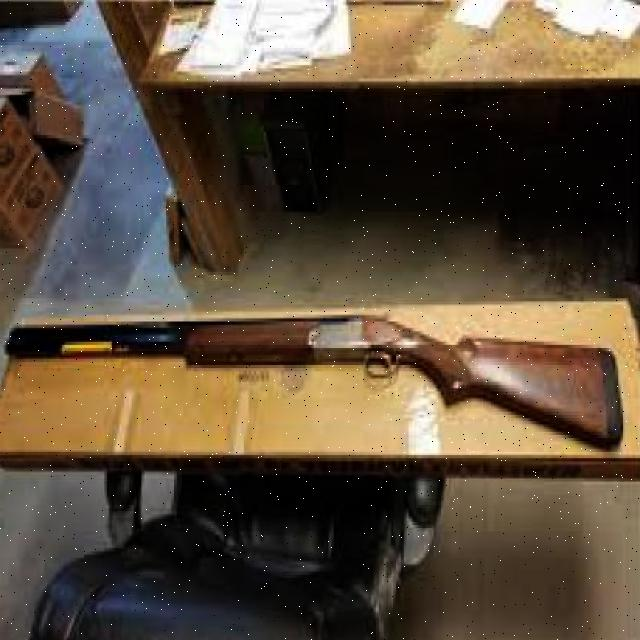Rifle: (4, 317, 615, 444)
